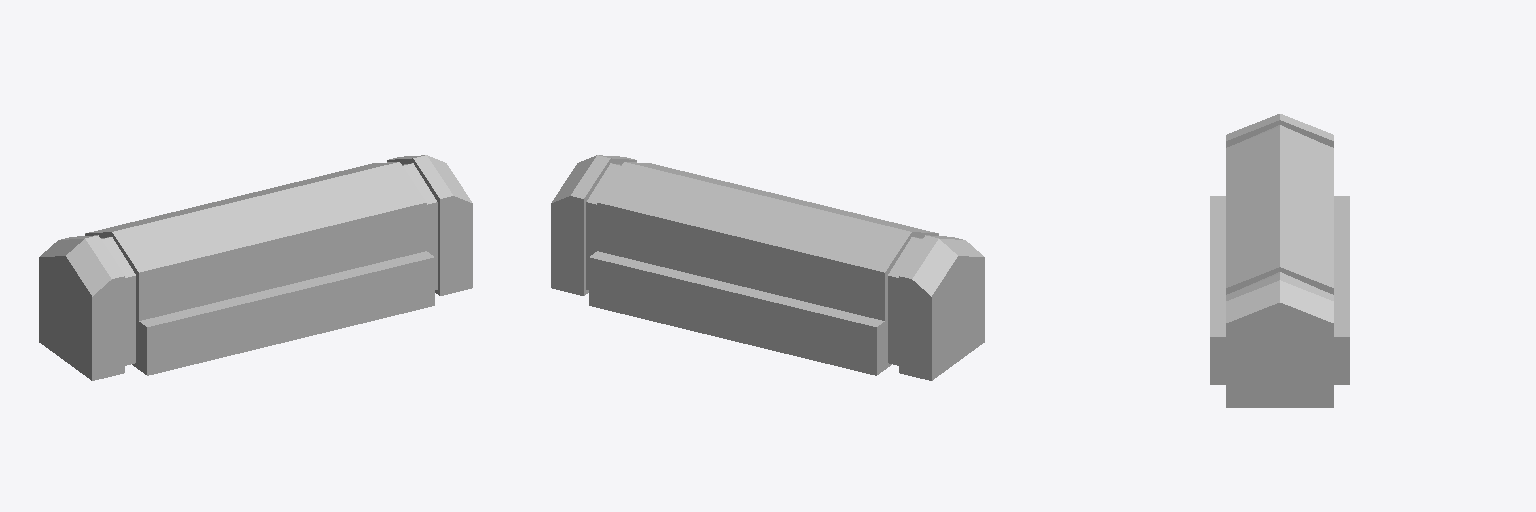
File: BasicLights.obj
The picture shows the model from 3 angles: view 1: azimuth 30°, elevation 25°; view 2: azimuth 150°, elevation 25°; view 3: azimuth 270°, elevation 25°; orthographic projection.
Parts seen in each view (by area): view 1: Cube; view 2: Cube; view 3: Cube.
Boxes of the visible parts, box(x1,y1,x2,y2) form: Cube: box(39, 155, 472, 380); Cube: box(551, 155, 984, 380); Cube: box(1210, 114, 1349, 407).
Size of the model in its own units: 1.08 by 0.3195 by 0.3445.